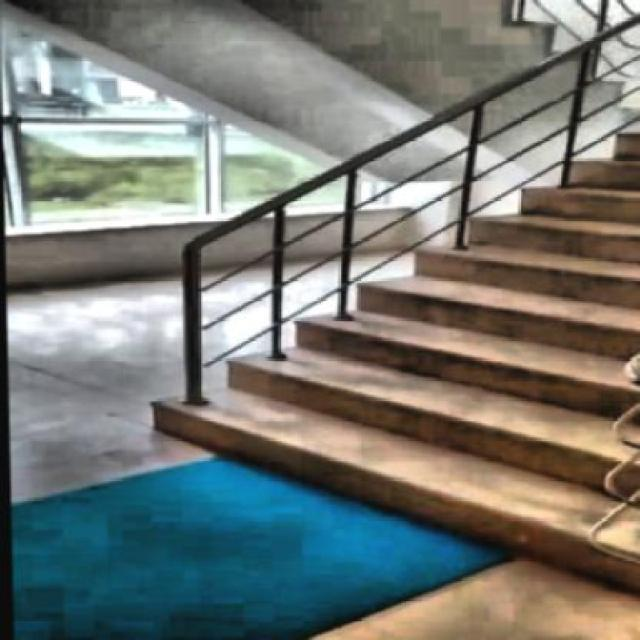stair: (126, 131, 639, 611)
